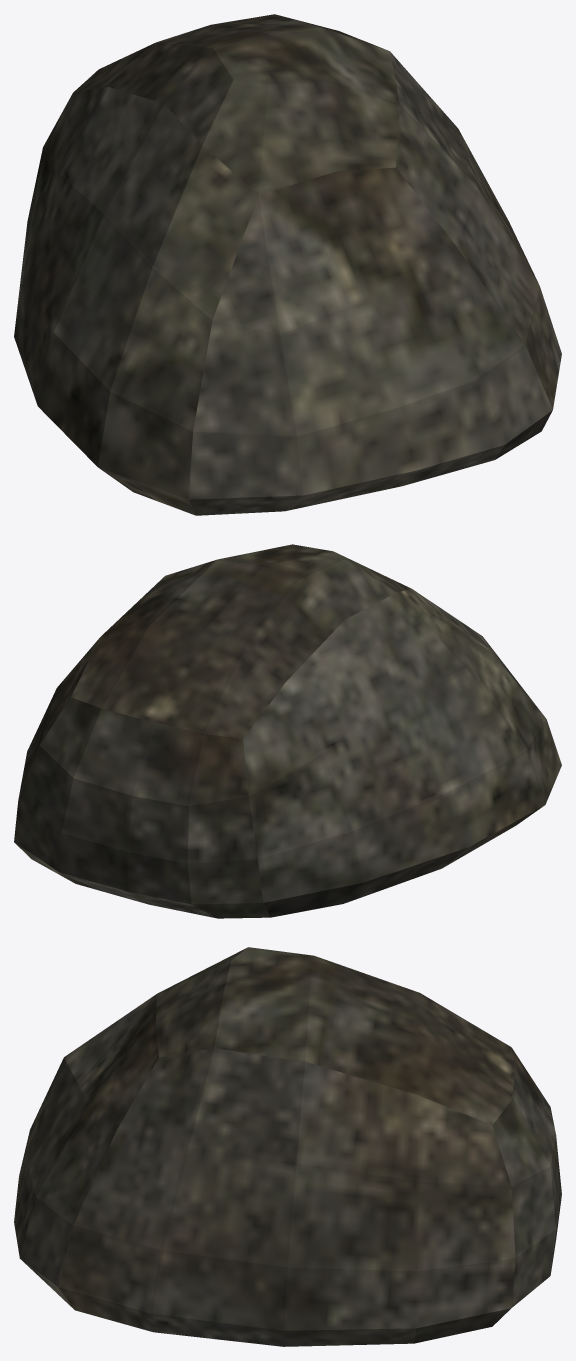
Rendered from stone_5.obj.
3 renders of one model, top to bottom at view 1: azimuth 30°, elevation 25°; view 2: azimuth 150°, elevation 25°; view 3: azimuth 270°, elevation 25°, orthographic. The views are drawn at different scales.
Visible parts, largest first — view 1: stone_5; view 2: stone_5; view 3: stone_5.
Boxes of the visible parts, <box> form: stone_5: <box>14,14,561,515</box>; stone_5: <box>14,544,561,918</box>; stone_5: <box>14,947,561,1346</box>.
Size of the model in its own units: 0.2665 by 0.1778 by 0.2953.
